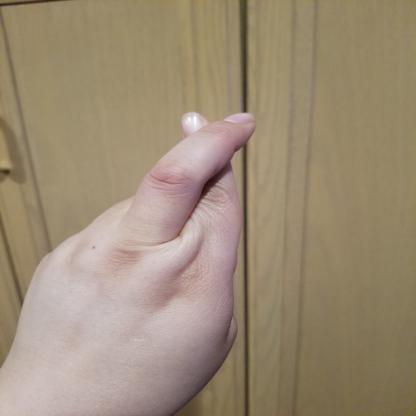R: (4, 108, 262, 415)
